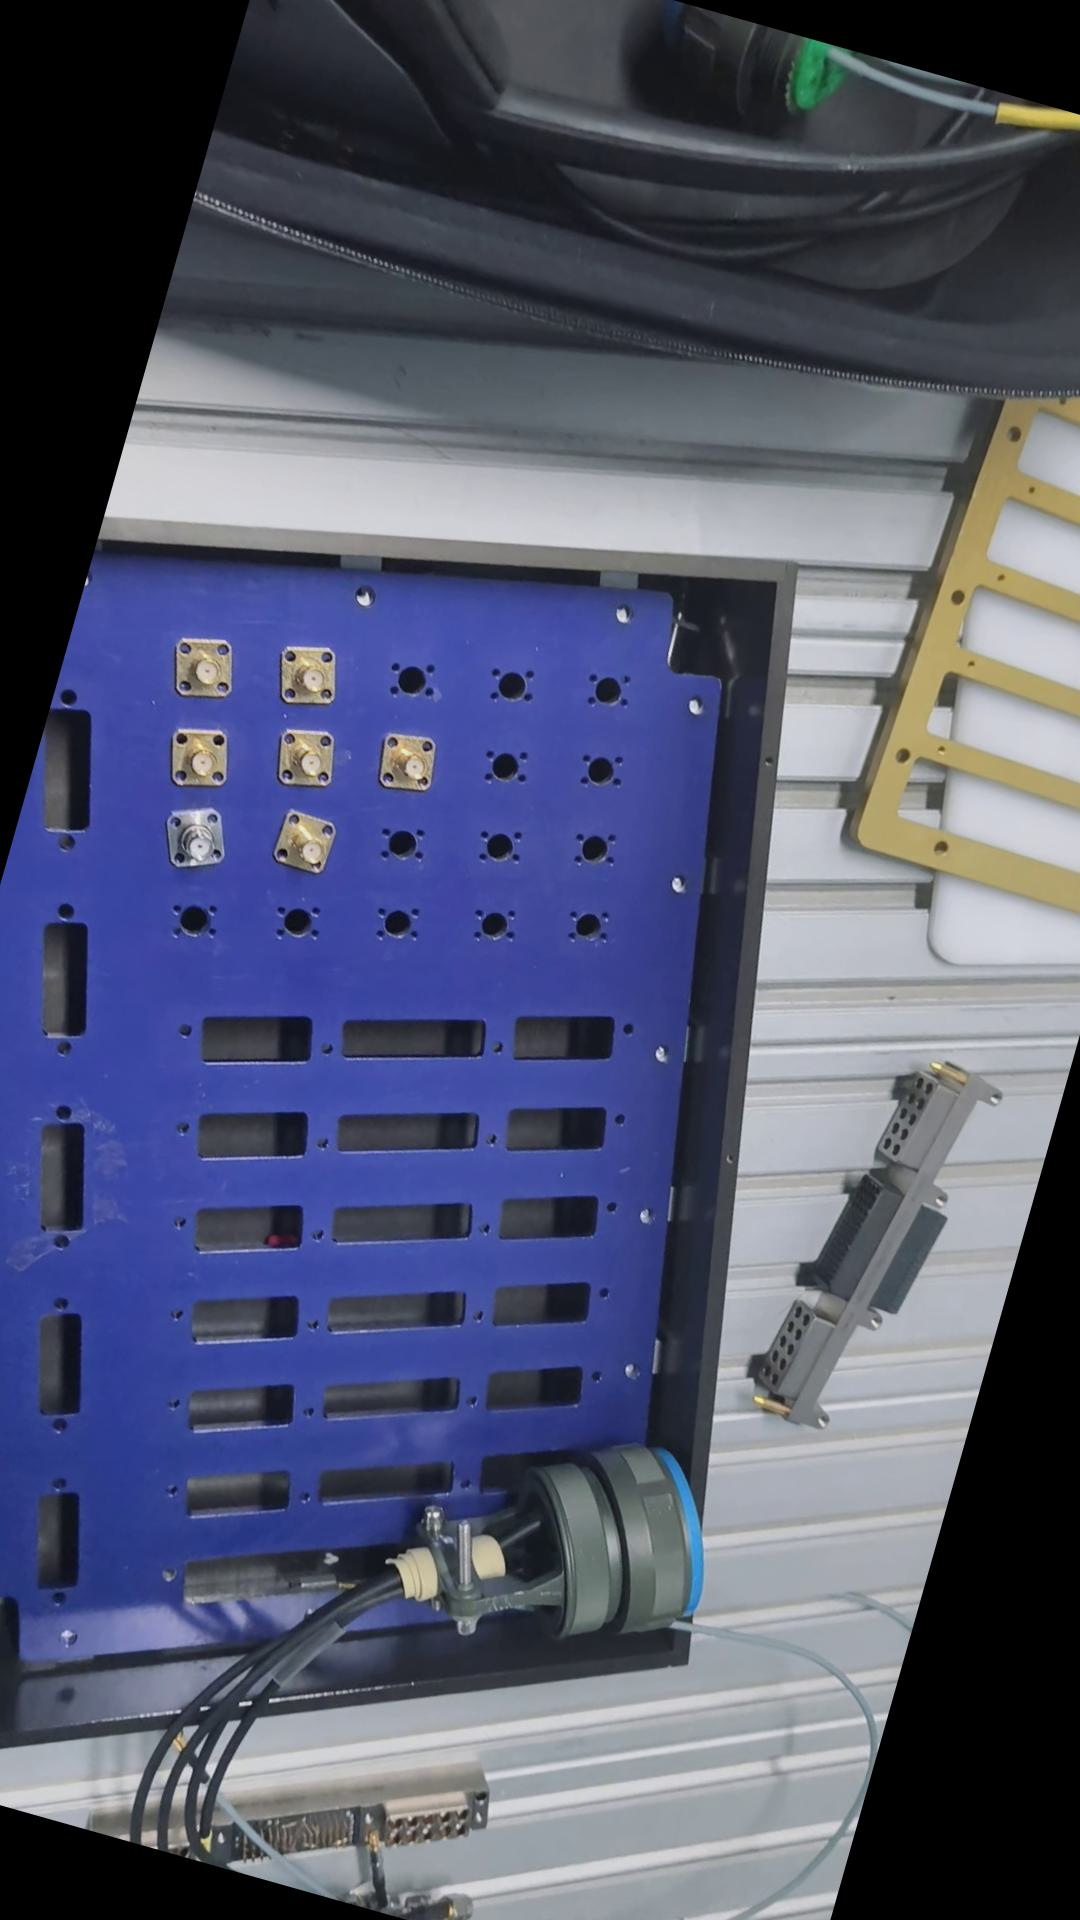SMA: (156, 793, 243, 882), (164, 717, 248, 798), (164, 628, 245, 709), (266, 717, 349, 796), (270, 804, 349, 884), (274, 638, 349, 713), (371, 731, 448, 803)
